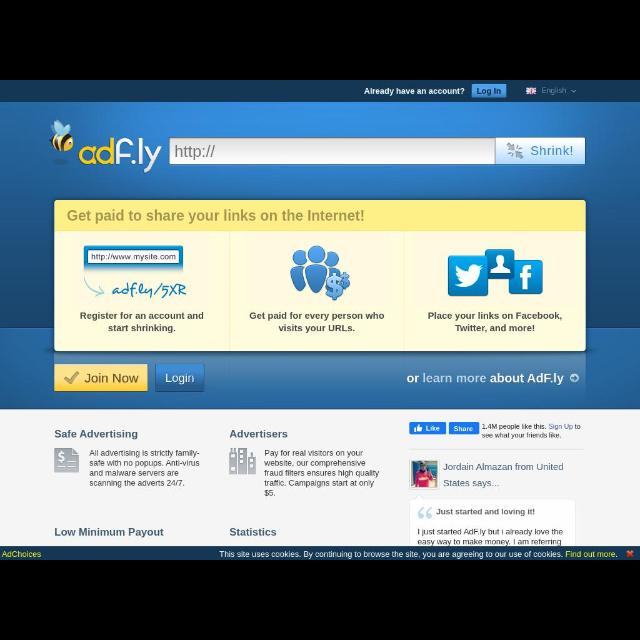icon: (228, 448, 256, 474), (54, 448, 80, 474), (506, 141, 522, 159), (64, 371, 80, 384), (568, 373, 580, 383), (412, 424, 422, 432), (570, 88, 578, 94)
image: (50, 118, 162, 174), (448, 250, 544, 296), (290, 244, 350, 300), (82, 276, 186, 300), (411, 459, 437, 488), (526, 86, 536, 95)
input: (170, 136, 496, 164)
spinner: (542, 86, 580, 95)
text: (264, 450, 378, 496), (89, 450, 200, 488), (66, 210, 364, 224), (250, 312, 384, 334), (80, 312, 204, 334), (428, 312, 562, 332), (418, 528, 564, 546), (220, 551, 622, 557), (406, 372, 564, 386), (482, 424, 580, 440), (442, 462, 564, 472), (54, 528, 164, 538), (90, 252, 178, 262), (54, 430, 138, 440), (84, 372, 138, 384), (175, 144, 215, 160), (229, 428, 287, 439), (364, 88, 464, 94), (436, 509, 536, 515), (230, 527, 276, 537), (531, 146, 573, 156), (166, 373, 194, 385), (442, 482, 498, 488), (2, 550, 40, 558), (476, 87, 502, 95), (542, 88, 568, 94), (454, 426, 474, 432), (426, 424, 440, 432)
textbutton: (54, 365, 148, 391), (496, 137, 586, 163), (156, 363, 204, 391), (472, 84, 506, 98), (409, 422, 446, 434), (449, 423, 478, 435)
